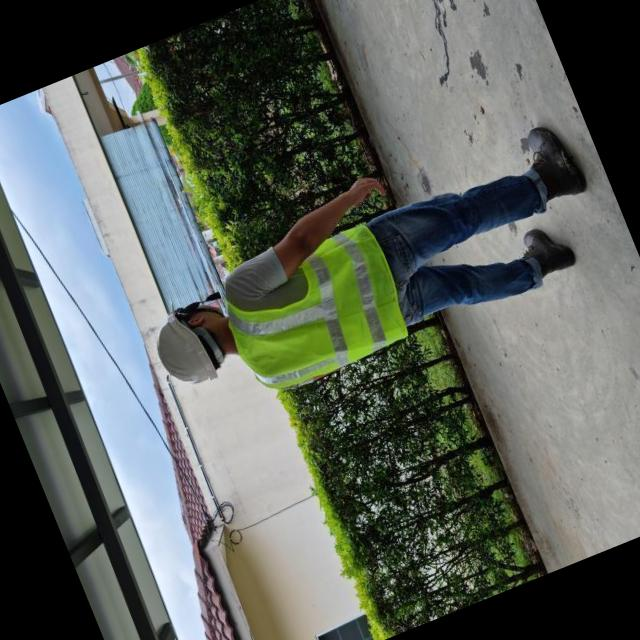hard_hat: (140, 300, 222, 400)
safety_vest: (212, 218, 423, 406)
vehicle: (101, 73, 640, 453)
work_boots: (509, 110, 594, 215), (514, 214, 584, 291)
